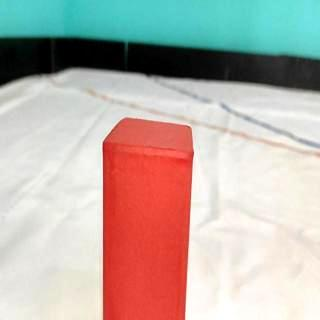redbox: (100, 115, 194, 318)
